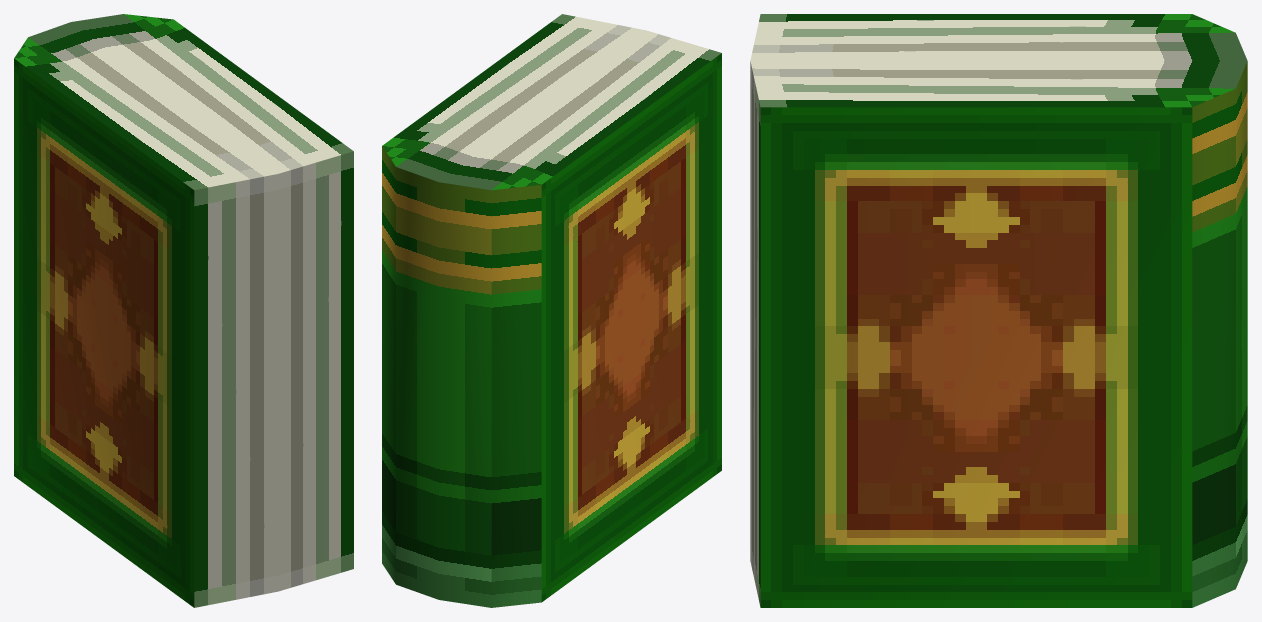
Rendered from nom_book.glb.
The picture shows the model from 3 angles, left to right: view 1: azimuth 30°, elevation 25°; view 2: azimuth 150°, elevation 25°; view 3: azimuth 270°, elevation 25°; orthographic projection. The views are drawn at different scales.
Parts seen in each view (by area): view 1: nom_book; view 2: nom_book; view 3: nom_book.
Boxes of the visible parts, x1,y1,x2,y2 form: nom_book: (14, 14, 353, 607); nom_book: (382, 14, 721, 607); nom_book: (750, 14, 1247, 607).
Bounding box in the file's own units: 5 × 12.5 × 11.25.
1 material, 1 textured.
